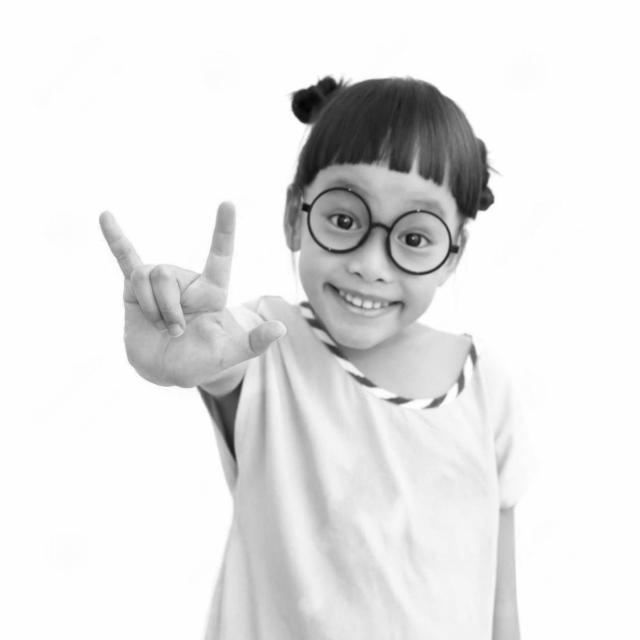i love you: (91, 189, 294, 393)
